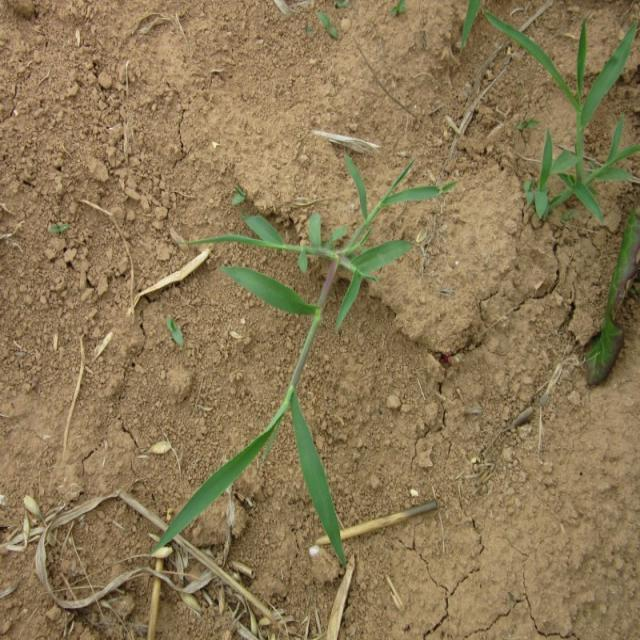bg: (152, 152, 449, 570)
